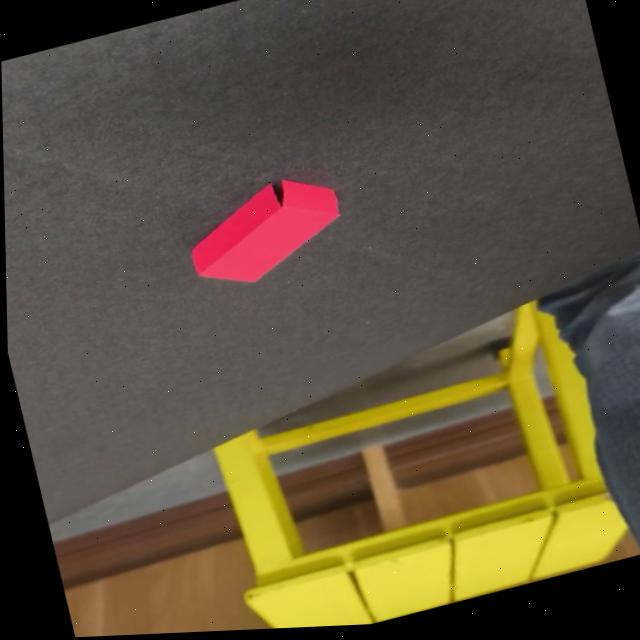red block: (178, 165, 355, 299)
